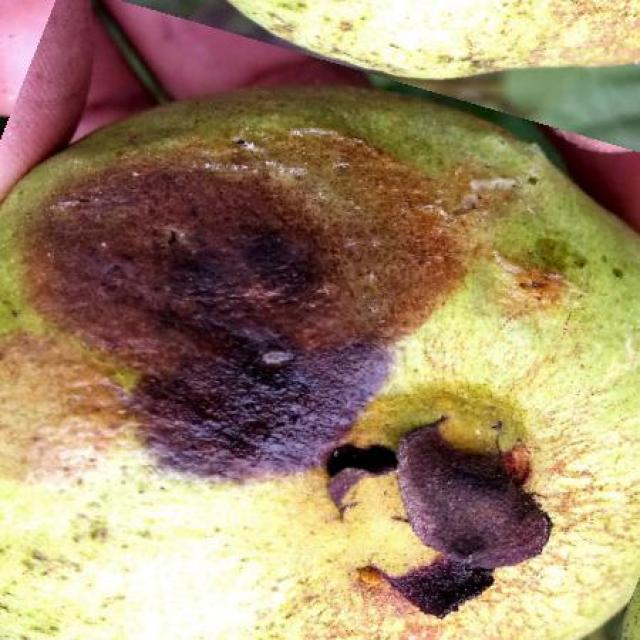Styler and Root: (0, 90, 640, 640)
